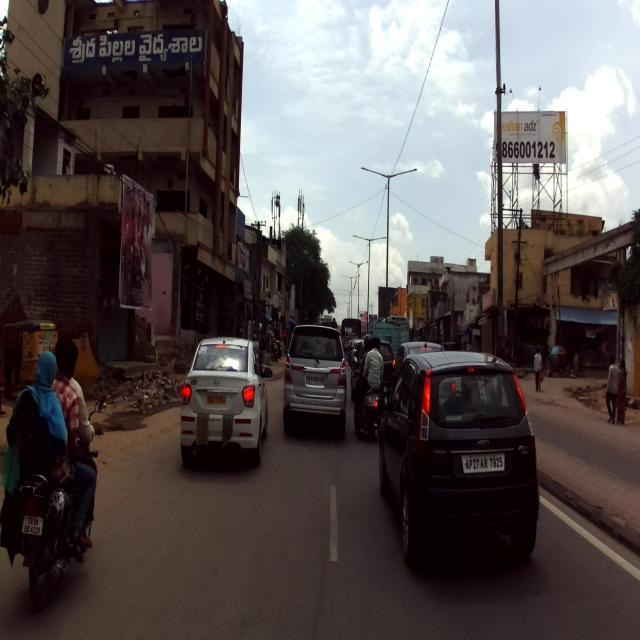autorickshaw: (0, 316, 58, 396)
car: (378, 348, 541, 574), (179, 336, 273, 468), (282, 324, 348, 434), (386, 340, 448, 408)
motorcycle: (10, 398, 106, 603)
scooter: (352, 356, 385, 440)
